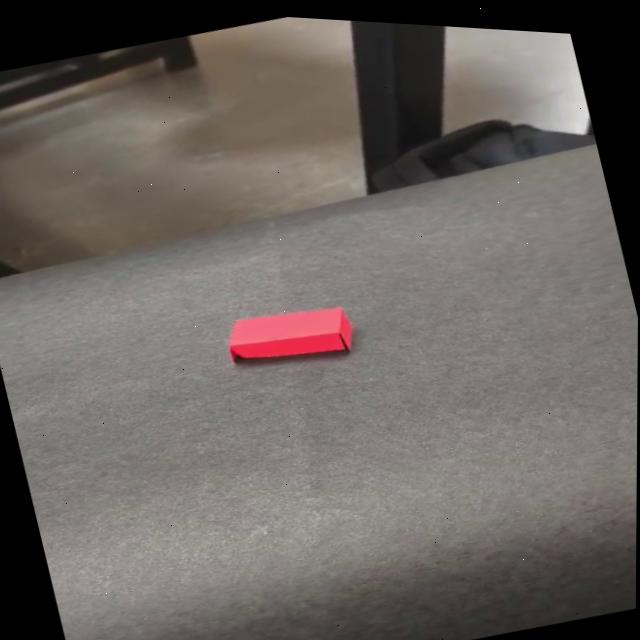red block: (220, 288, 359, 378)
